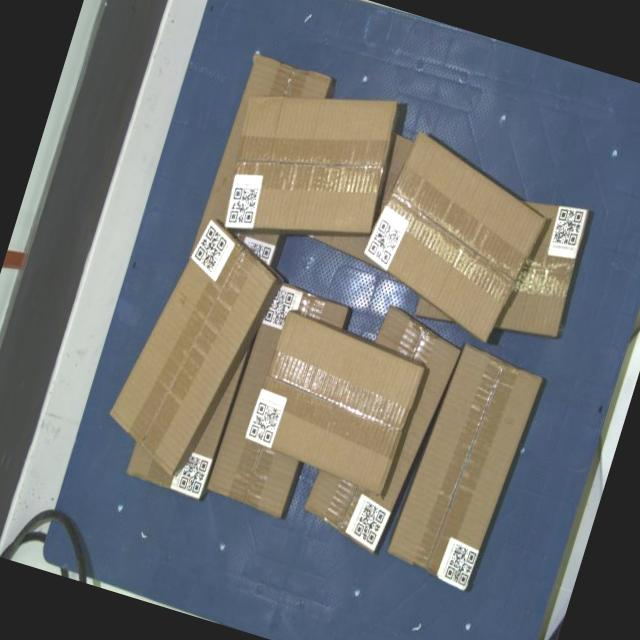box: (96, 206, 286, 488), (346, 125, 560, 349), (210, 58, 410, 269), (383, 339, 546, 595), (238, 308, 428, 496)
